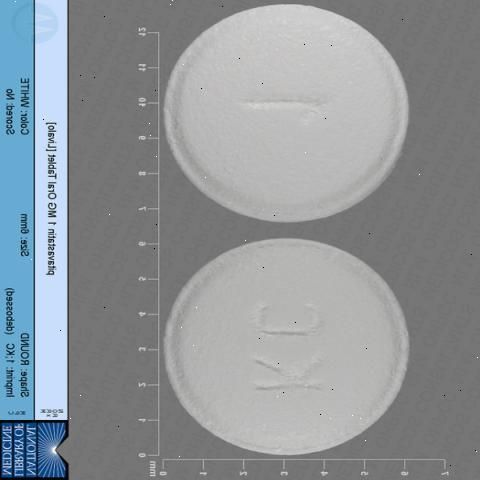Pill: (154, 0, 439, 238), (155, 230, 429, 456)
